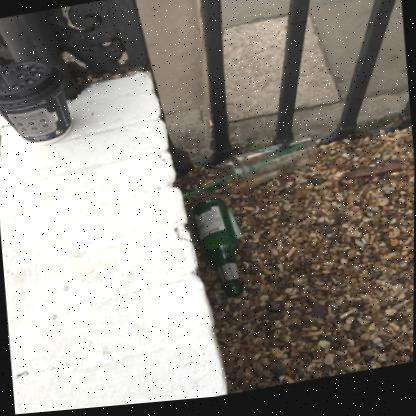Paper: (0, 83, 72, 145)
Plastic: (183, 153, 298, 201), (192, 202, 243, 301), (230, 141, 317, 194), (0, 59, 63, 107), (216, 157, 252, 196)
Waste: (339, 313, 358, 324), (301, 335, 324, 344), (285, 252, 296, 263), (284, 379, 295, 389), (200, 183, 212, 190), (241, 210, 253, 215), (225, 181, 234, 187), (207, 121, 211, 129)
